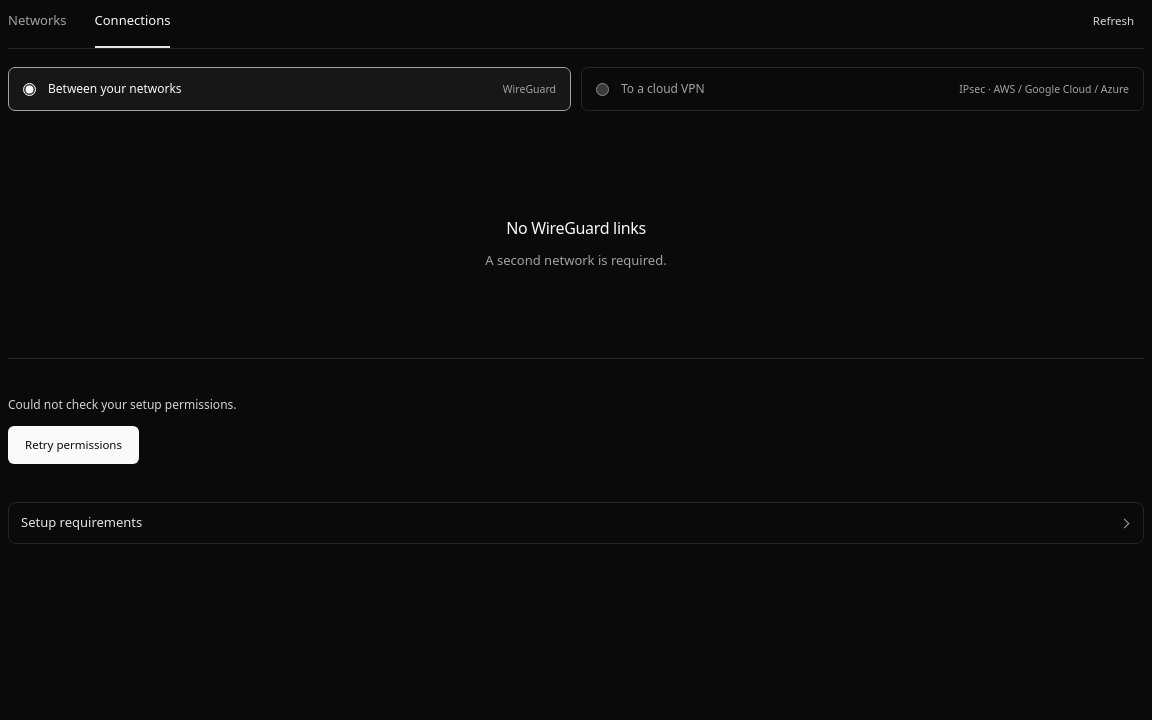
Test: recovers membership failure without presenting it as denied permission
The image size is (1152, 720).
Expected: the text "Could not check your setup permissions." is shown, top-left (8, 395), bottom-right (236, 414)
Click the button "Retry permissions".
click(74, 445)  # box top-left (8, 426), bottom-right (139, 464)
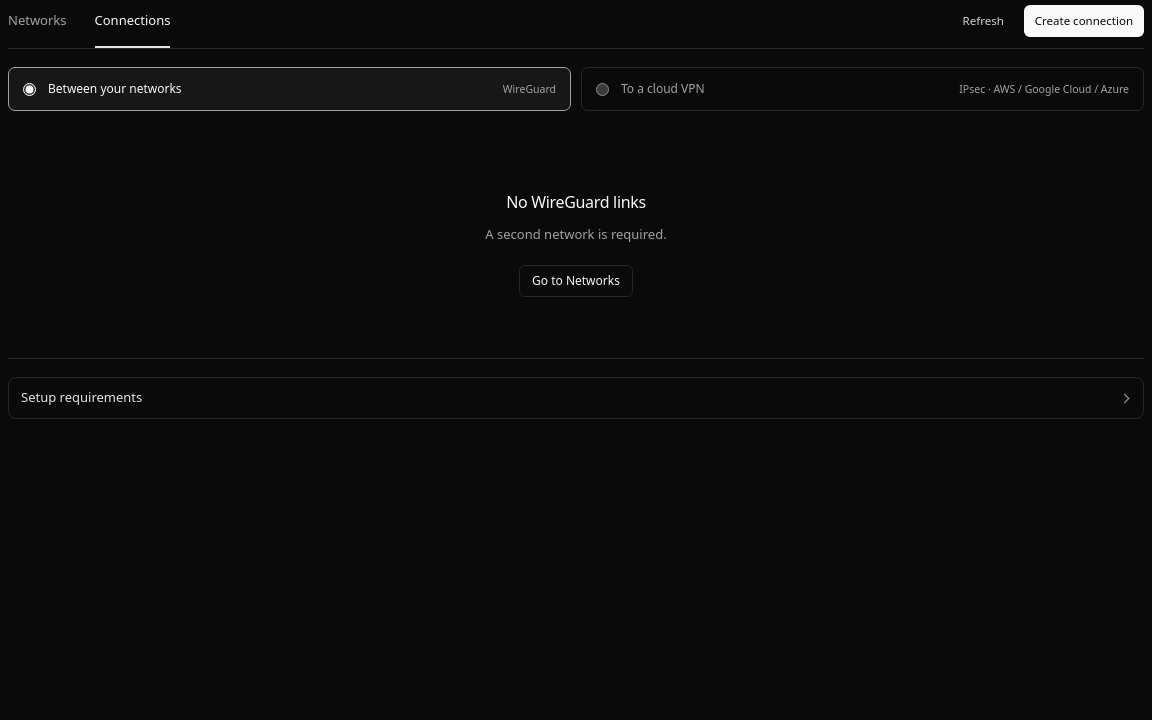
Expected: the button "Create connection" is shown, top-left (1024, 4), bottom-right (1144, 36)
